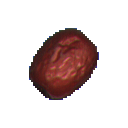gd: (15, 16, 106, 114)
